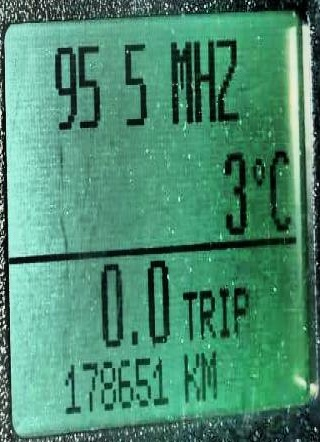-: (129, 327, 138, 347)
0: (98, 259, 123, 347), (146, 256, 170, 344)
1: (62, 362, 81, 412), (151, 356, 169, 405)
3: (224, 150, 246, 233)
5: (123, 42, 147, 125), (77, 43, 100, 129), (134, 356, 150, 405)
6: (116, 357, 132, 408)
7: (81, 360, 96, 411)
8: (99, 359, 115, 409)
9: (53, 45, 76, 128)
X: (168, 39, 193, 125), (215, 37, 240, 122), (268, 151, 291, 230), (193, 37, 214, 122), (199, 289, 215, 339), (183, 353, 199, 402), (201, 348, 216, 400), (181, 290, 196, 341), (233, 286, 247, 336), (219, 286, 228, 335)
